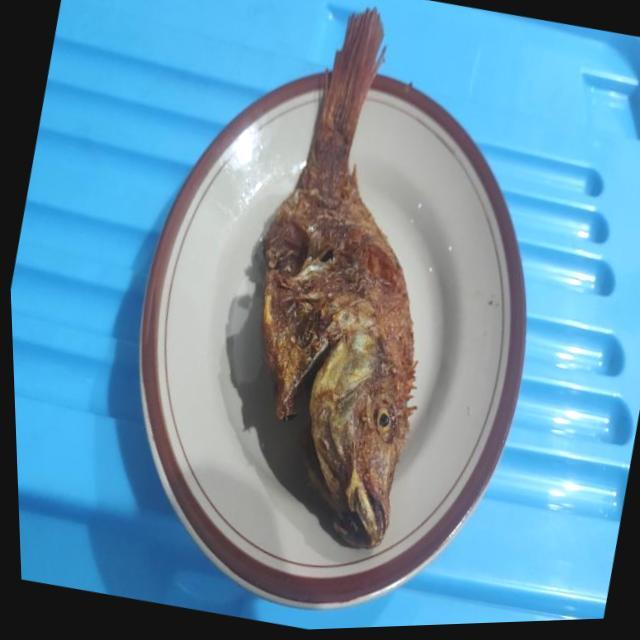ikan_mujair: (262, 8, 415, 539)
